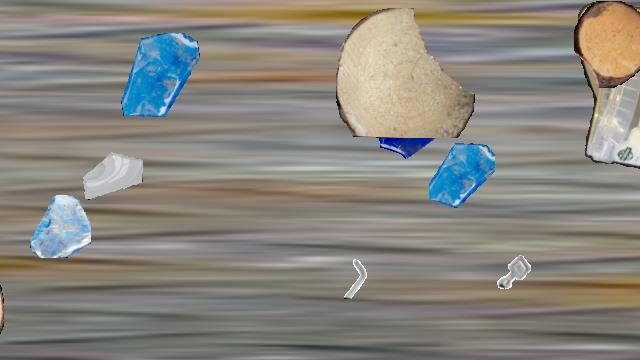glass: (118, 33, 202, 117), (368, 78, 450, 160), (429, 142, 495, 208), (28, 195, 90, 257), (82, 140, 142, 200)
metal: (489, 247, 539, 297), (334, 257, 376, 299)
plastic: (578, 1, 640, 175)
wood: (336, 8, 474, 138), (574, 1, 640, 87), (632, 1, 640, 127), (0, 257, 3, 359)
